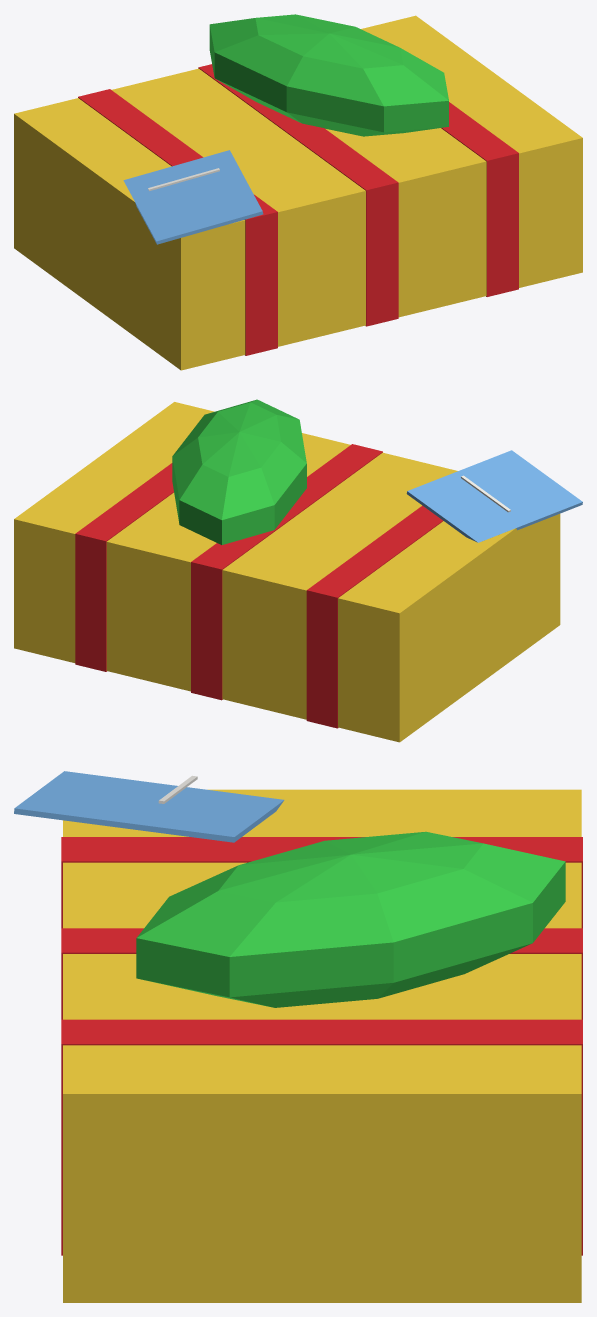
File: clown_costume.glb
The picture shows the model from 3 angles, top to bottom: view 1: azimuth 30°, elevation 25°; view 2: azimuth 150°, elevation 25°; view 3: azimuth 270°, elevation 25°; orthographic projection. The views are drawn at different scales.
Visible parts, largest first — view 1: suit_costume_yellow, hoops_costume_red, shoe_costume_shoe, plan_costume_plan; view 2: suit_costume_yellow, hoops_costume_red, shoe_costume_shoe, plan_costume_plan; view 3: suit_costume_yellow, shoe_costume_shoe, hoops_costume_red, plan_costume_plan.
Boxes of the visible parts, box(x1,y1,x2,y2) form: suit_costume_yellow: box(14, 15, 582, 370); hoops_costume_red: box(78, 64, 518, 355); shoe_costume_shoe: box(209, 14, 448, 136); plan_costume_plan: box(123, 150, 263, 244); suit_costume_yellow: box(14, 402, 560, 742); hoops_costume_red: box(75, 444, 443, 728); shoe_costume_shoe: box(172, 399, 306, 544); plan_costume_plan: box(406, 450, 582, 542); suit_costume_yellow: box(63, 789, 581, 1302); shoe_costume_shoe: box(136, 831, 565, 1007); hoops_costume_red: box(61, 837, 582, 1255); plan_costume_plan: box(14, 771, 284, 842).
Bounding box in the file's own units: 0.5302 × 0.251 × 0.3949.
